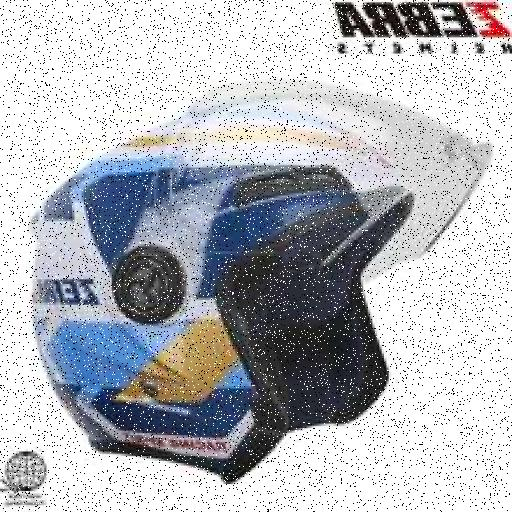Helmet: (32, 83, 490, 480)
